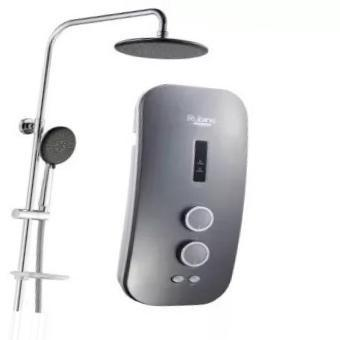Ducha: (8, 0, 279, 312)
